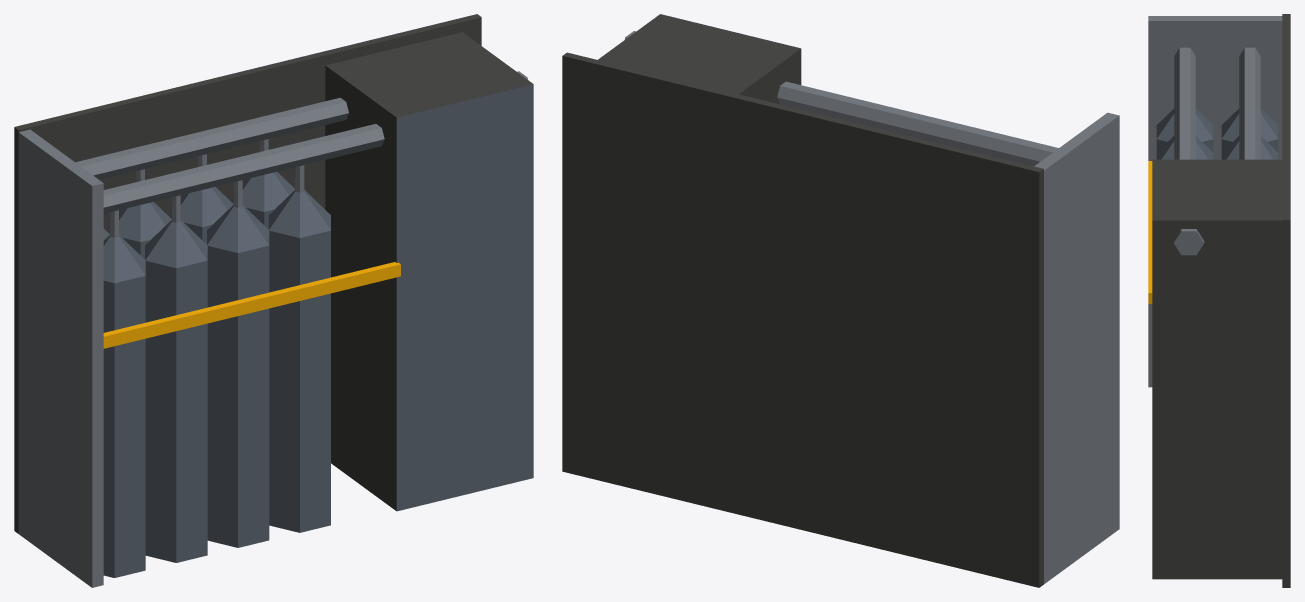
The model's file is helium3_rack.glb.
3 views of the same model, side by side, from view 1: azimuth 30°, elevation 25°; view 2: azimuth 150°, elevation 25°; view 3: azimuth 270°, elevation 25° (orthographic). The views are drawn at different scales.
Visible parts, largest first — view 1: helium3_rack; view 2: helium3_rack; view 3: helium3_rack.
Part boxes in pixels (x1=…): helium3_rack: x1=14, y1=14, x2=533, y2=587; helium3_rack: x1=562, y1=14, x2=1119, y2=587; helium3_rack: x1=1148, y1=14, x2=1290, y2=587.
Size of the model in its own units: 2.4 by 2 by 0.7.
